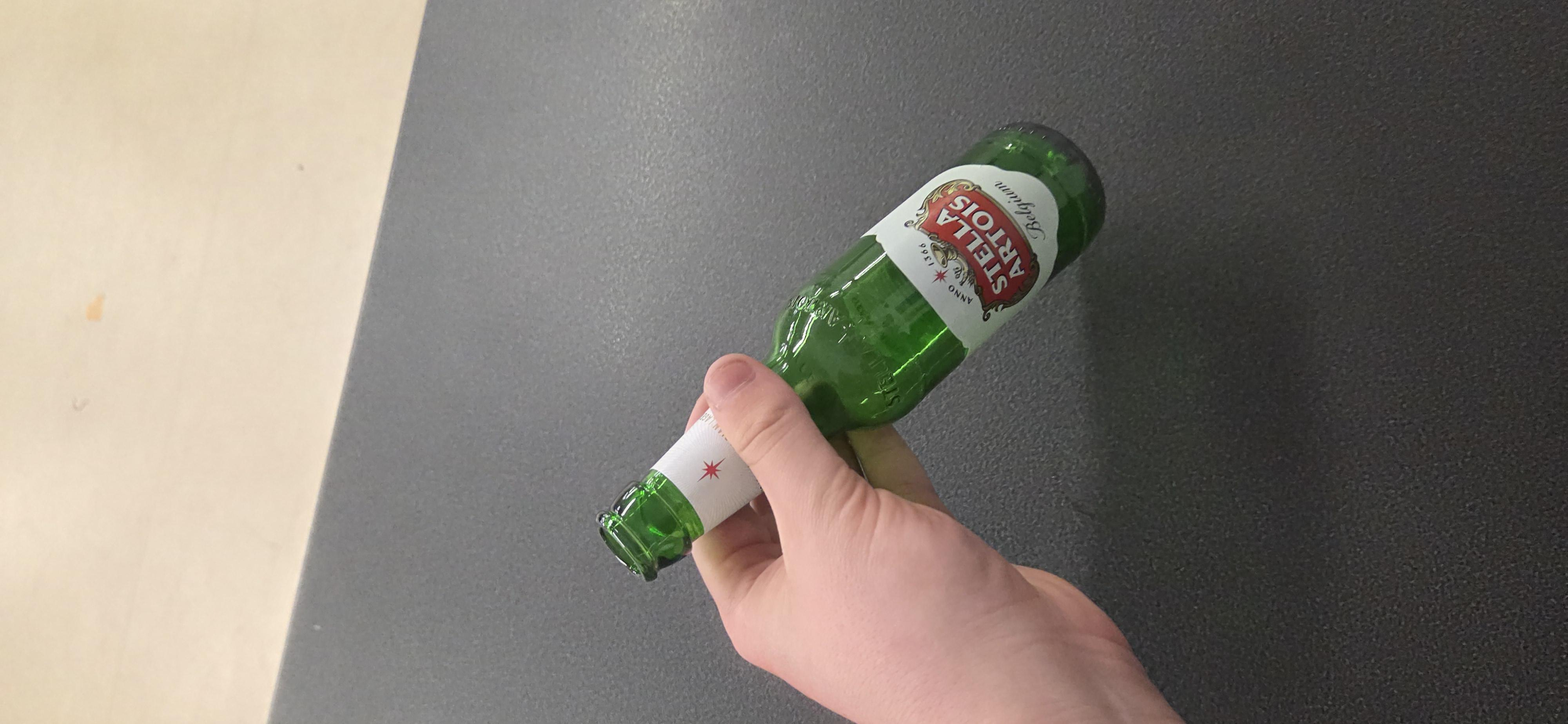Glass: (314, 270, 1320, 512)
